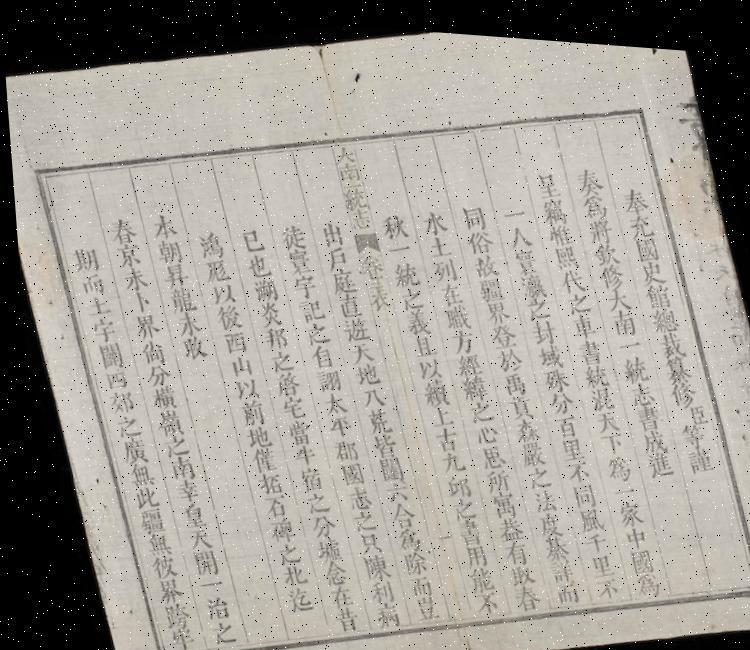c: (568, 154, 604, 189), (612, 342, 648, 377), (189, 224, 224, 259), (144, 404, 180, 438), (614, 174, 649, 208), (655, 344, 691, 377), (110, 433, 146, 466), (499, 574, 536, 606), (412, 370, 446, 404), (143, 207, 178, 240), (272, 580, 308, 612), (676, 434, 712, 466), (642, 294, 678, 326), (434, 295, 470, 327), (160, 282, 196, 314), (63, 242, 99, 274), (148, 596, 184, 628), (659, 370, 697, 400), (102, 212, 136, 245), (602, 298, 636, 331), (384, 252, 419, 284), (594, 443, 629, 475), (81, 312, 116, 344), (509, 430, 544, 462), (190, 588, 225, 620), (636, 271, 672, 302), (634, 439, 670, 470), (648, 319, 684, 350), (333, 309, 369, 340), (256, 510, 292, 541), (87, 338, 121, 370), (528, 160, 562, 192), (229, 394, 263, 426), (309, 552, 343, 584), (240, 440, 274, 472), (479, 482, 513, 514), (605, 488, 639, 520), (374, 204, 408, 236), (124, 308, 158, 340), (144, 572, 178, 604), (179, 544, 213, 576), (456, 556, 490, 588), (413, 200, 448, 231), (451, 366, 486, 397), (319, 599, 354, 630), (630, 248, 666, 278), (97, 385, 133, 415), (618, 370, 654, 400), (126, 503, 162, 533), (137, 548, 173, 578), (469, 434, 502, 466), (505, 238, 538, 270), (396, 300, 429, 332), (169, 496, 202, 528), (444, 510, 478, 541), (624, 393, 658, 424), (534, 187, 568, 218), (520, 477, 554, 508), (334, 478, 368, 509), (580, 207, 614, 238), (272, 217, 306, 248), (322, 261, 356, 292), (538, 379, 572, 410), (245, 464, 280, 494), (103, 410, 138, 440), (485, 506, 520, 536), (303, 530, 338, 560), (140, 381, 175, 411), (475, 291, 510, 321), (464, 244, 499, 274), (620, 201, 655, 231), (276, 412, 308, 444), (279, 242, 311, 274), (454, 194, 486, 226), (207, 299, 240, 330), (487, 337, 520, 368), (356, 400, 389, 431), (196, 615, 230, 645), (356, 572, 390, 602), (630, 417, 664, 447), (157, 450, 191, 480), (378, 494, 412, 524), (586, 230, 620, 260), (490, 530, 524, 560), (591, 252, 625, 282), (361, 596, 395, 626), (574, 183, 608, 213), (560, 472, 594, 502), (351, 548, 385, 578), (172, 331, 206, 361), (568, 328, 602, 358), (446, 344, 480, 374), (551, 258, 585, 288), (148, 234, 182, 264), (459, 220, 493, 250), (470, 267, 504, 297), (533, 357, 567, 387), (322, 431, 356, 461), (481, 314, 515, 344), (352, 246, 382, 280), (196, 253, 230, 283), (166, 307, 200, 337), (512, 264, 546, 294), (536, 548, 570, 578), (314, 577, 348, 607), (670, 410, 704, 440), (287, 459, 319, 490), (368, 449, 400, 480), (249, 295, 281, 326), (132, 335, 164, 366), (566, 496, 599, 526), (531, 525, 564, 555), (108, 238, 141, 268), (597, 276, 630, 306), (114, 262, 147, 292), (328, 454, 361, 484), (584, 398, 617, 428), (295, 314, 328, 344), (522, 310, 555, 340), (442, 320, 475, 350), (117, 458, 150, 488), (268, 557, 302, 586), (344, 355, 378, 384), (290, 292, 324, 321), (154, 258, 188, 287), (154, 622, 189, 650), (312, 213, 343, 244), (526, 502, 558, 532), (616, 536, 648, 566), (424, 418, 456, 448), (390, 543, 422, 573), (580, 375, 612, 405), (562, 302, 594, 332), (263, 535, 296, 564), (540, 212, 573, 241), (474, 459, 507, 488), (435, 466, 468, 495), (498, 384, 531, 413), (504, 409, 537, 438), (458, 391, 491, 420), (122, 481, 155, 510), (610, 514, 644, 542), (152, 430, 186, 458), (576, 542, 610, 570), (70, 268, 104, 296), (361, 274, 389, 308), (264, 366, 298, 394), (626, 226, 660, 254), (232, 222, 263, 252), (239, 248, 270, 278), (402, 587, 432, 618), (252, 488, 284, 517), (546, 234, 578, 263), (362, 426, 394, 455), (528, 334, 560, 363), (493, 362, 525, 391), (574, 353, 606, 382), (424, 249, 456, 278), (284, 268, 317, 296), (235, 418, 268, 446), (328, 286, 361, 314), (163, 474, 196, 502), (500, 214, 531, 243), (301, 338, 332, 367), (623, 562, 655, 590), (583, 565, 615, 593), (385, 520, 417, 548), (312, 386, 344, 414), (244, 272, 276, 300), (518, 288, 550, 316), (306, 362, 338, 390), (260, 344, 292, 372), (550, 427, 582, 455), (299, 507, 331, 535), (340, 502, 371, 530), (430, 442, 461, 470), (214, 325, 245, 353), (440, 488, 471, 516), (255, 321, 286, 349), (392, 280, 423, 308), (431, 274, 462, 302), (224, 372, 256, 399), (318, 408, 350, 435), (496, 554, 528, 581), (346, 524, 376, 552), (546, 405, 576, 433), (516, 456, 546, 484), (294, 485, 325, 512), (341, 334, 372, 361), (175, 522, 206, 549), (555, 450, 587, 476), (202, 278, 234, 304), (558, 282, 590, 308), (673, 392, 705, 418), (134, 528, 166, 554), (591, 421, 621, 448), (420, 397, 450, 424), (352, 379, 382, 406), (408, 349, 438, 376), (272, 390, 302, 417), (78, 291, 108, 318), (120, 286, 150, 313), (462, 582, 493, 608), (137, 360, 168, 386), (543, 573, 574, 599), (453, 536, 482, 563), (221, 350, 250, 377), (404, 327, 433, 354), (337, 180, 366, 207), (421, 227, 450, 254), (374, 474, 404, 500), (465, 414, 495, 440), (283, 438, 312, 464), (319, 240, 348, 266), (96, 364, 123, 391), (572, 522, 602, 546), (495, 194, 526, 217), (397, 568, 425, 593), (186, 572, 218, 593), (601, 472, 632, 493), (381, 234, 412, 254), (334, 156, 358, 180), (610, 327, 640, 346), (330, 140, 354, 160), (346, 201, 368, 217), (347, 212, 370, 227)
